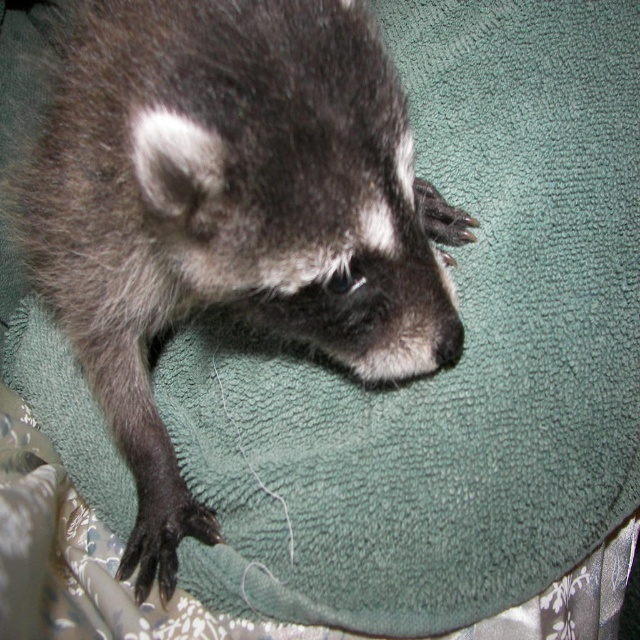Raccoon: (0, 0, 479, 610)
